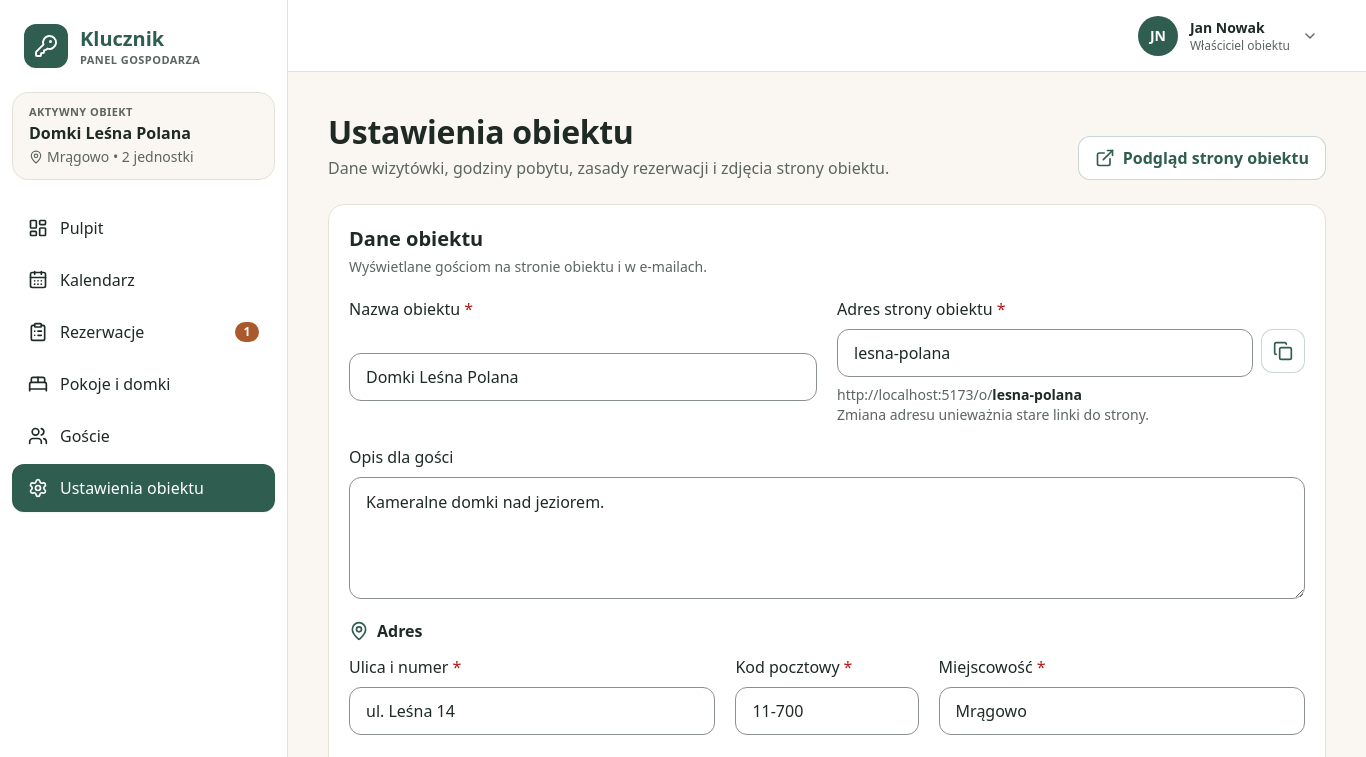
Test case: PropertySettingsPage (O8) › SLUG_TAKEN is shown at the page address field
The width and height of the screenshot is (1366, 757).
Replace the text in the field labelled "Adres strony obiektu *" with "pod-lipami" at (1045, 353), box 837,329 -> 1253,377
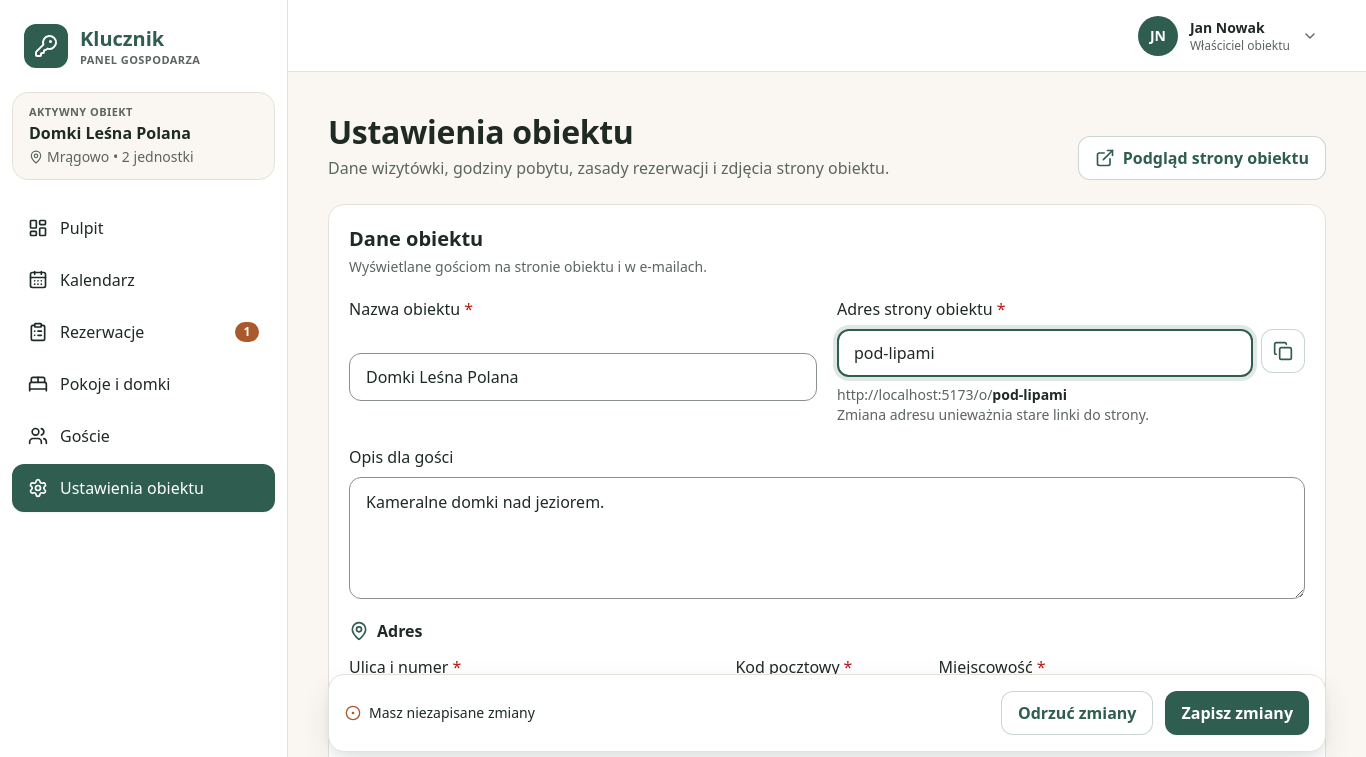
Expected: the text "pod-lipami" is shown, 992,385 -> 1067,404
Click the button "Zapisz zmiany".
click(1237, 713)  # box 1166,691 -> 1309,735
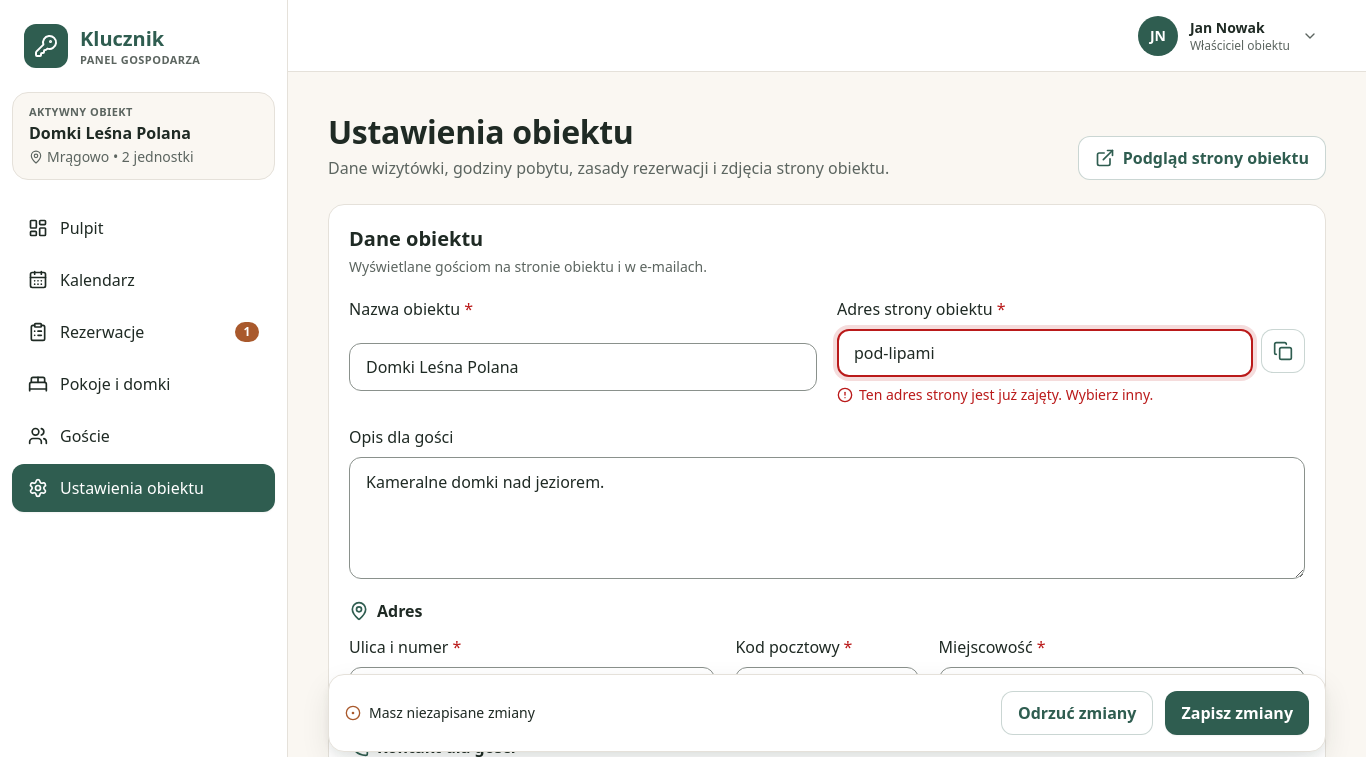
Expected: the text "Ten adres strony jest już zajęty. Wybierz inny." is shown, 837,385 -> 1153,404
